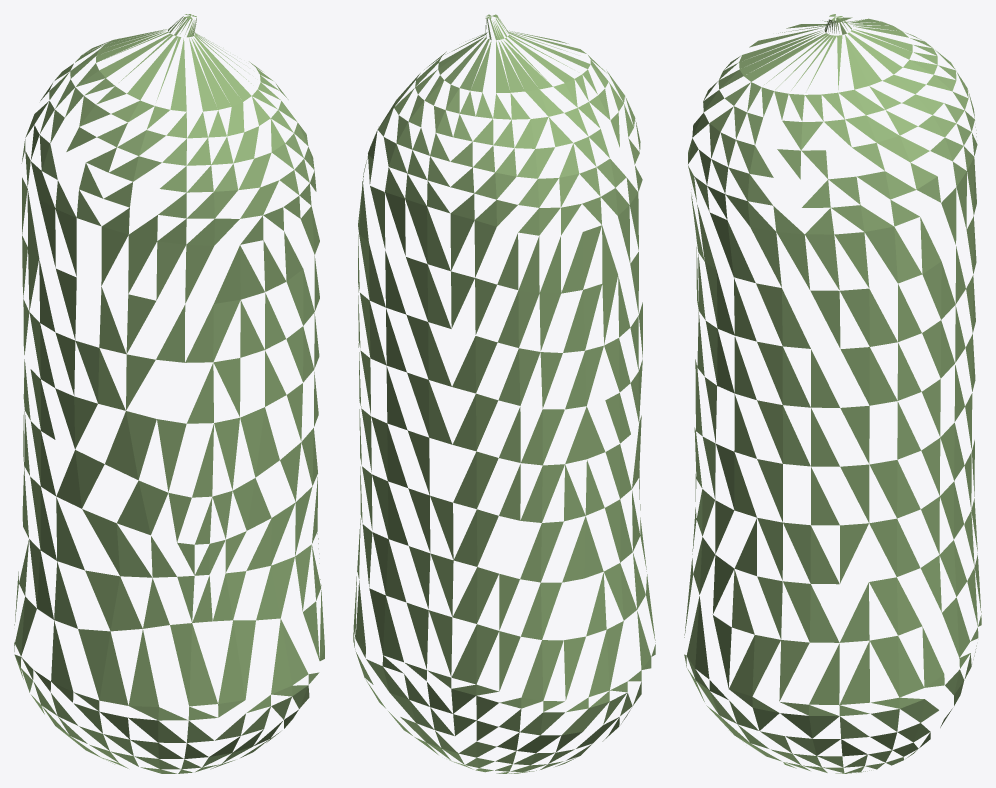
Rendered from food_produce_cucumber_f01.glb.
3 views of the same model, side by side, from view 1: azimuth 30°, elevation 25°; view 2: azimuth 150°, elevation 25°; view 3: azimuth 270°, elevation 25° (orthographic).
Visible parts, largest first — view 1: geometry_0; view 2: geometry_0; view 3: geometry_0.
Part boxes in pixels (<box>): geometry_0: <box>14,14,324,773</box>; geometry_0: <box>353,14,655,773</box>; geometry_0: <box>684,14,981,773</box>.
Size of the model in its own units: 0.1789 by 0.48 by 0.1722.
